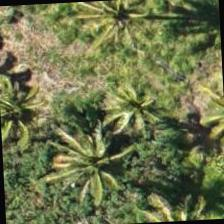Kelapa_Sawit: (86, 62, 182, 158), (50, 120, 144, 214), (69, 0, 163, 61), (0, 68, 61, 162)
